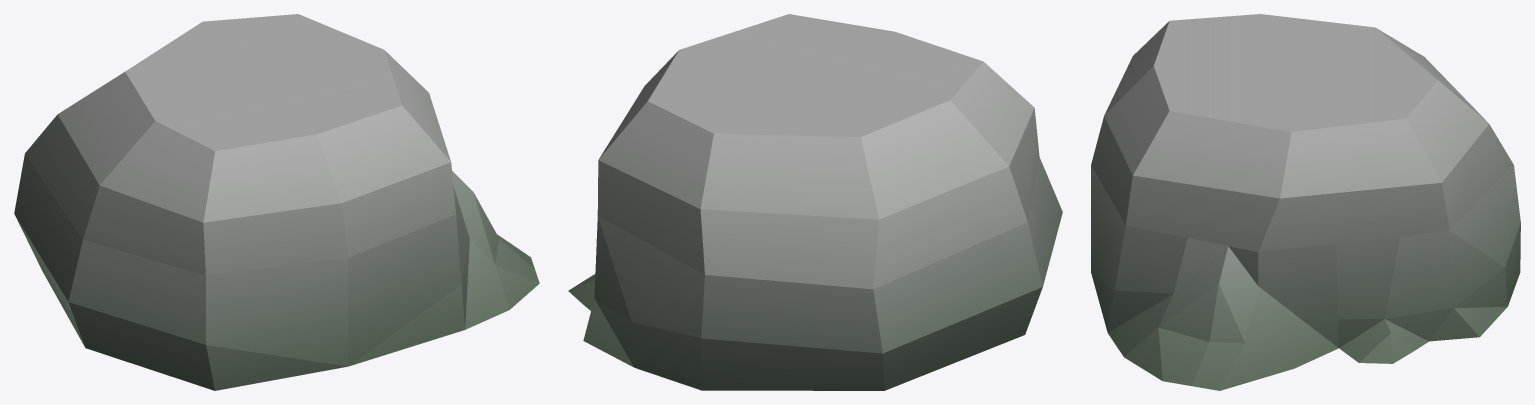
File: objRock1.fbx
3 views of the same model, side by side, from view 1: azimuth 30°, elevation 25°; view 2: azimuth 150°, elevation 25°; view 3: azimuth 270°, elevation 25° (orthographic). The views are drawn at different scales.
Parts seen in each view (by area): view 1: pCube4; view 2: pCube4; view 3: pCube4.
Part boxes in pixels (x1,y1,x2,y2): pCube4: [14, 14, 539, 390]; pCube4: [568, 14, 1062, 390]; pCube4: [1091, 14, 1520, 390].
Bounding box in the file's own units: 336 × 151 × 285.
